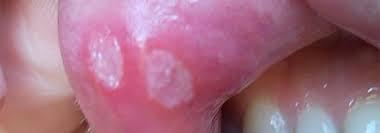Ulcer: (80, 24, 198, 113)
